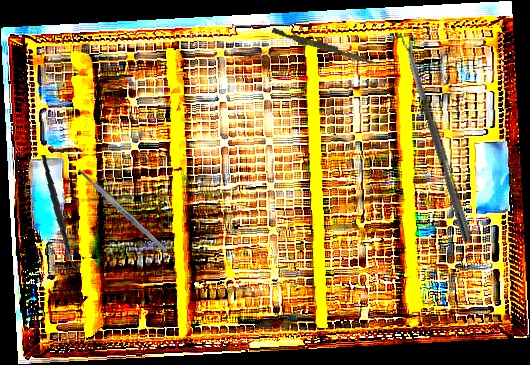Chopper: (30, 154, 92, 272)
Pusher: (271, 27, 381, 67)
Scalpel Handle: (76, 167, 169, 254)
Surgical Spoon: (401, 35, 474, 243)
